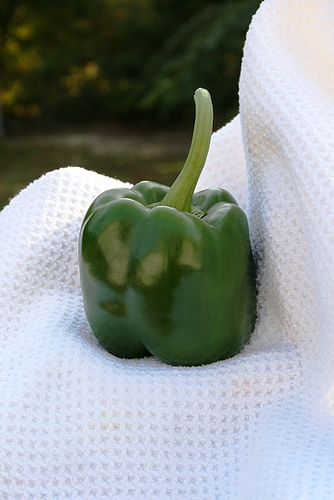capsicum: (77, 88, 260, 366)
